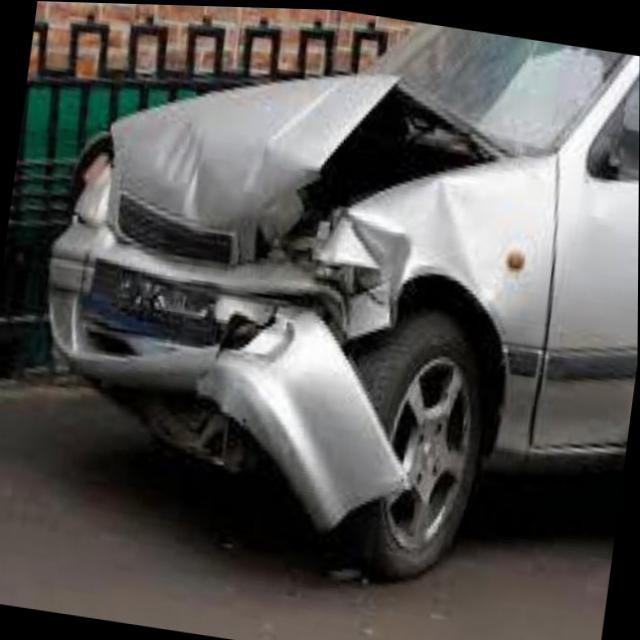dislocated part: (44, 69, 515, 544)
